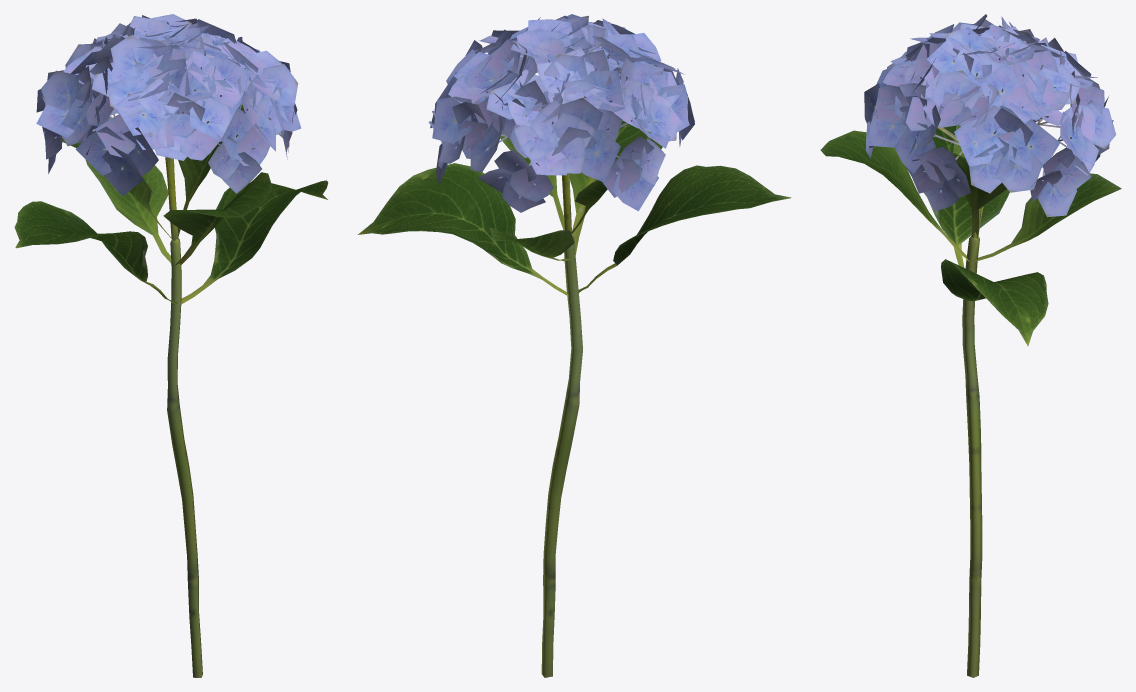
File: Hydrangea2.glb
3 renders of one model, left to right at view 1: azimuth 30°, elevation 25°; view 2: azimuth 150°, elevation 25°; view 3: azimuth 270°, elevation 25°, orthographic. The views are drawn at different scales.
Parts seen in each view (by area): view 1: Hydrangea; view 2: Hydrangea; view 3: Hydrangea.
Boxes of the visible parts, x1,y1,x2,y2 form: Hydrangea: [14, 14, 328, 677]; Hydrangea: [358, 14, 791, 677]; Hydrangea: [820, 14, 1121, 677].
Size of the model in its own units: 77.75 by 130 by 56.41.
Materials: 1 (1 with a texture image).
